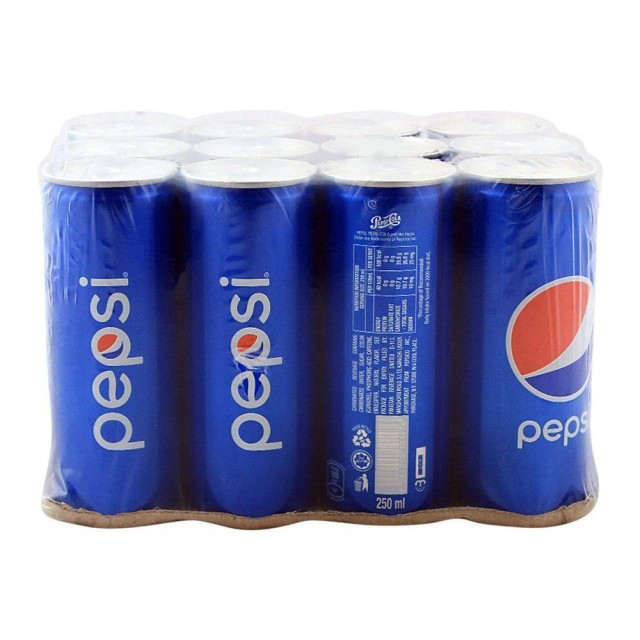pepsi: (213, 273, 286, 455), (77, 272, 149, 455), (505, 270, 595, 404)
